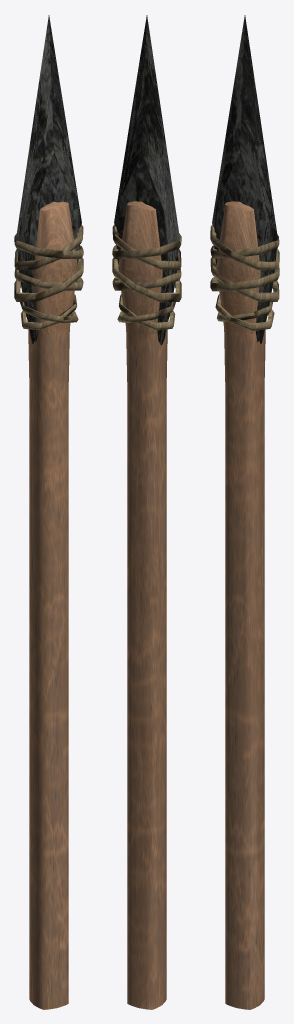
The model's file is stone_spear.fbx.
3 renders of one model, left to right at view 1: azimuth 30°, elevation 25°; view 2: azimuth 150°, elevation 25°; view 3: azimuth 330°, elevation 25°, orthographic.
Parts seen in each view (by area): view 1: stone_spear; view 2: stone_spear; view 3: stone_spear.
Boxes of the visible parts, <box> form: stone_spear: <box>14,15,83,1009</box>; stone_spear: <box>112,15,181,1009</box>; stone_spear: <box>210,15,279,1009</box>.
Bounding box in the file's own units: 0.0809 × 1.11 × 0.0606.
